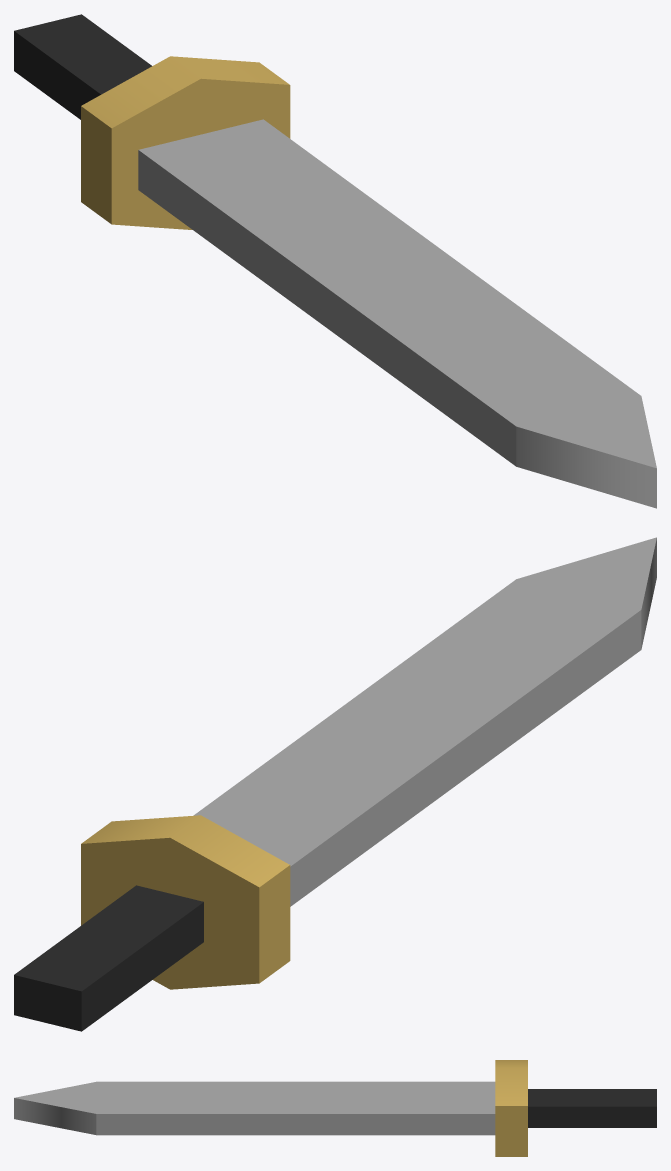
File: Sword.fbx
3 renders of one model, top to bottom at view 1: azimuth 30°, elevation 25°; view 2: azimuth 150°, elevation 25°; view 3: azimuth 270°, elevation 25°, orthographic. The views are drawn at different scales.
Parts seen in each view (by area): view 1: sword; view 2: sword; view 3: sword.
Part boxes in pixels (<box>): sword: <box>14,14,656,508</box>; sword: <box>14,537,656,1031</box>; sword: <box>14,1060,656,1156</box>.
Bounding box in the file's own units: 0.1523 × 0.1239 × 0.9004.
